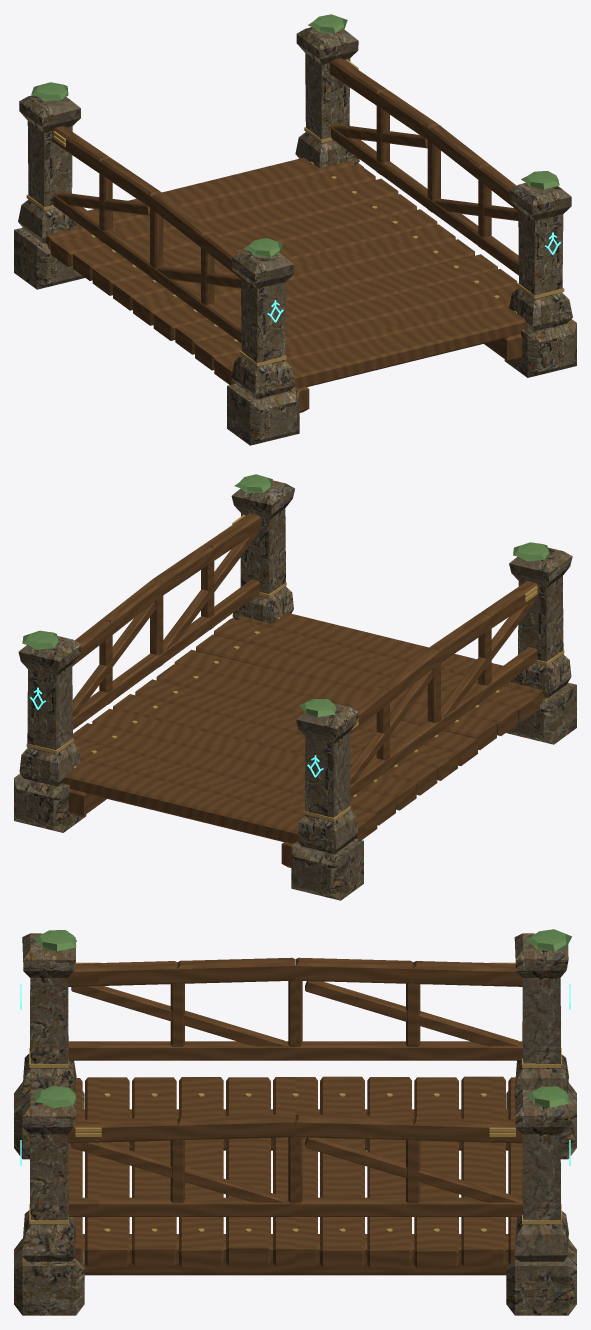
The model's file is bridge.glb.
3 views of the same model, one above another, from view 1: azimuth 30°, elevation 25°; view 2: azimuth 150°, elevation 25°; view 3: azimuth 270°, elevation 25° (orthographic). The views are drawn at different scales.
Parts seen in each view (by area): view 1: hewn_timber_planks, weathered_bridge_abutments, moss_patina, bridge_bronze_fastenings; view 2: hewn_timber_planks, weathered_bridge_abutments, moss_patina, bridge_bronze_fastenings; view 3: hewn_timber_planks, weathered_bridge_abutments, moss_patina, bridge_bronze_fastenings.
Part boxes in pixels (left/top/right/bottom): hewn_timber_planks: left=45, top=58, right=528, bottom=412; weathered_bridge_abutments: left=14, top=27, right=576, bottom=445; moss_patina: left=31, top=14, right=559, bottom=256; bridge_bronze_fastenings: left=26, top=59, right=564, bottom=366; hewn_timber_planks: left=62, top=513, right=544, bottom=867; weathered_bridge_abutments: left=14, top=480, right=576, bottom=900; moss_patina: left=22, top=474, right=549, bottom=717; bridge_bronze_fastenings: left=26, top=515, right=564, bottom=821; hewn_timber_planks: left=68, top=957, right=522, bottom=1275; weathered_bridge_abutments: left=14, top=933, right=576, bottom=1315; moss_patina: left=33, top=929, right=571, bottom=1108; bridge_bronze_fastenings: left=29, top=962, right=561, bottom=1231.
Bounding box in the file's own units: 2.78 × 1.49 × 3.59.
5 materials, 2 textured.
